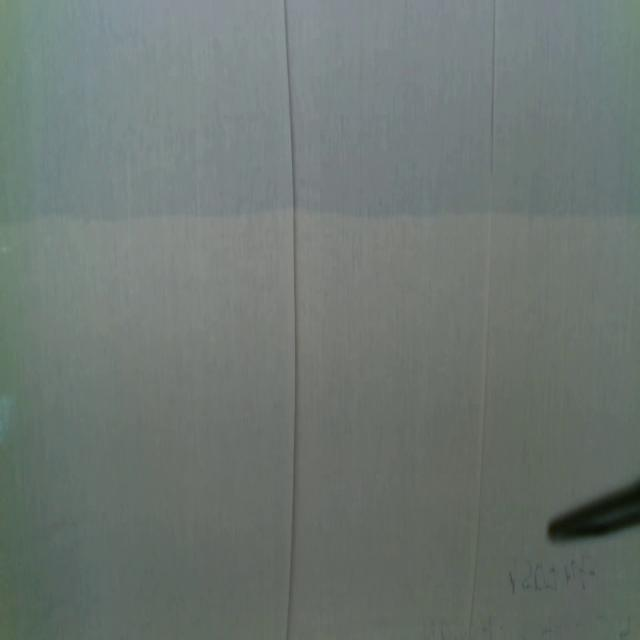color bleeding: (0, 0, 640, 245)
crease: (468, 0, 496, 636), (281, 0, 304, 640)
